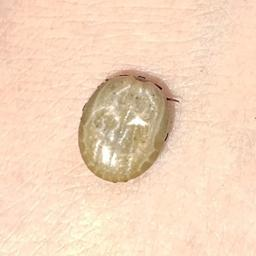Rhipicephalus sanguineus: (76, 74, 180, 183)
